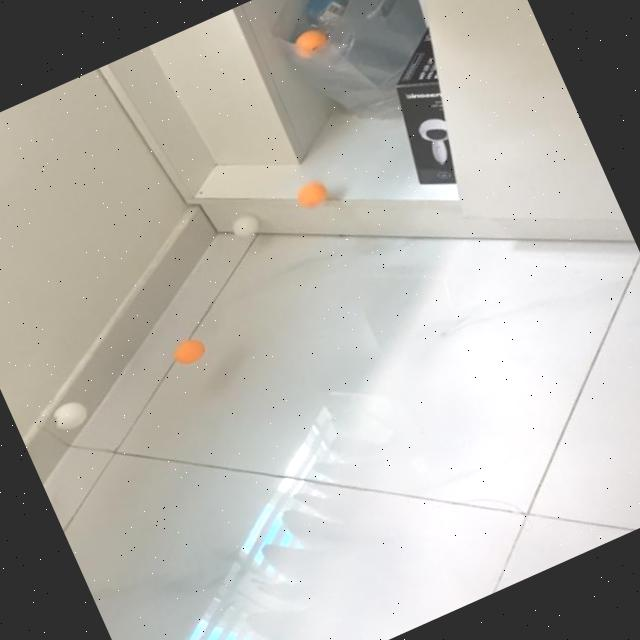ping-pong-ball: (48, 397, 92, 435), (291, 24, 333, 62), (168, 333, 208, 370), (293, 179, 328, 210), (227, 210, 262, 240)
